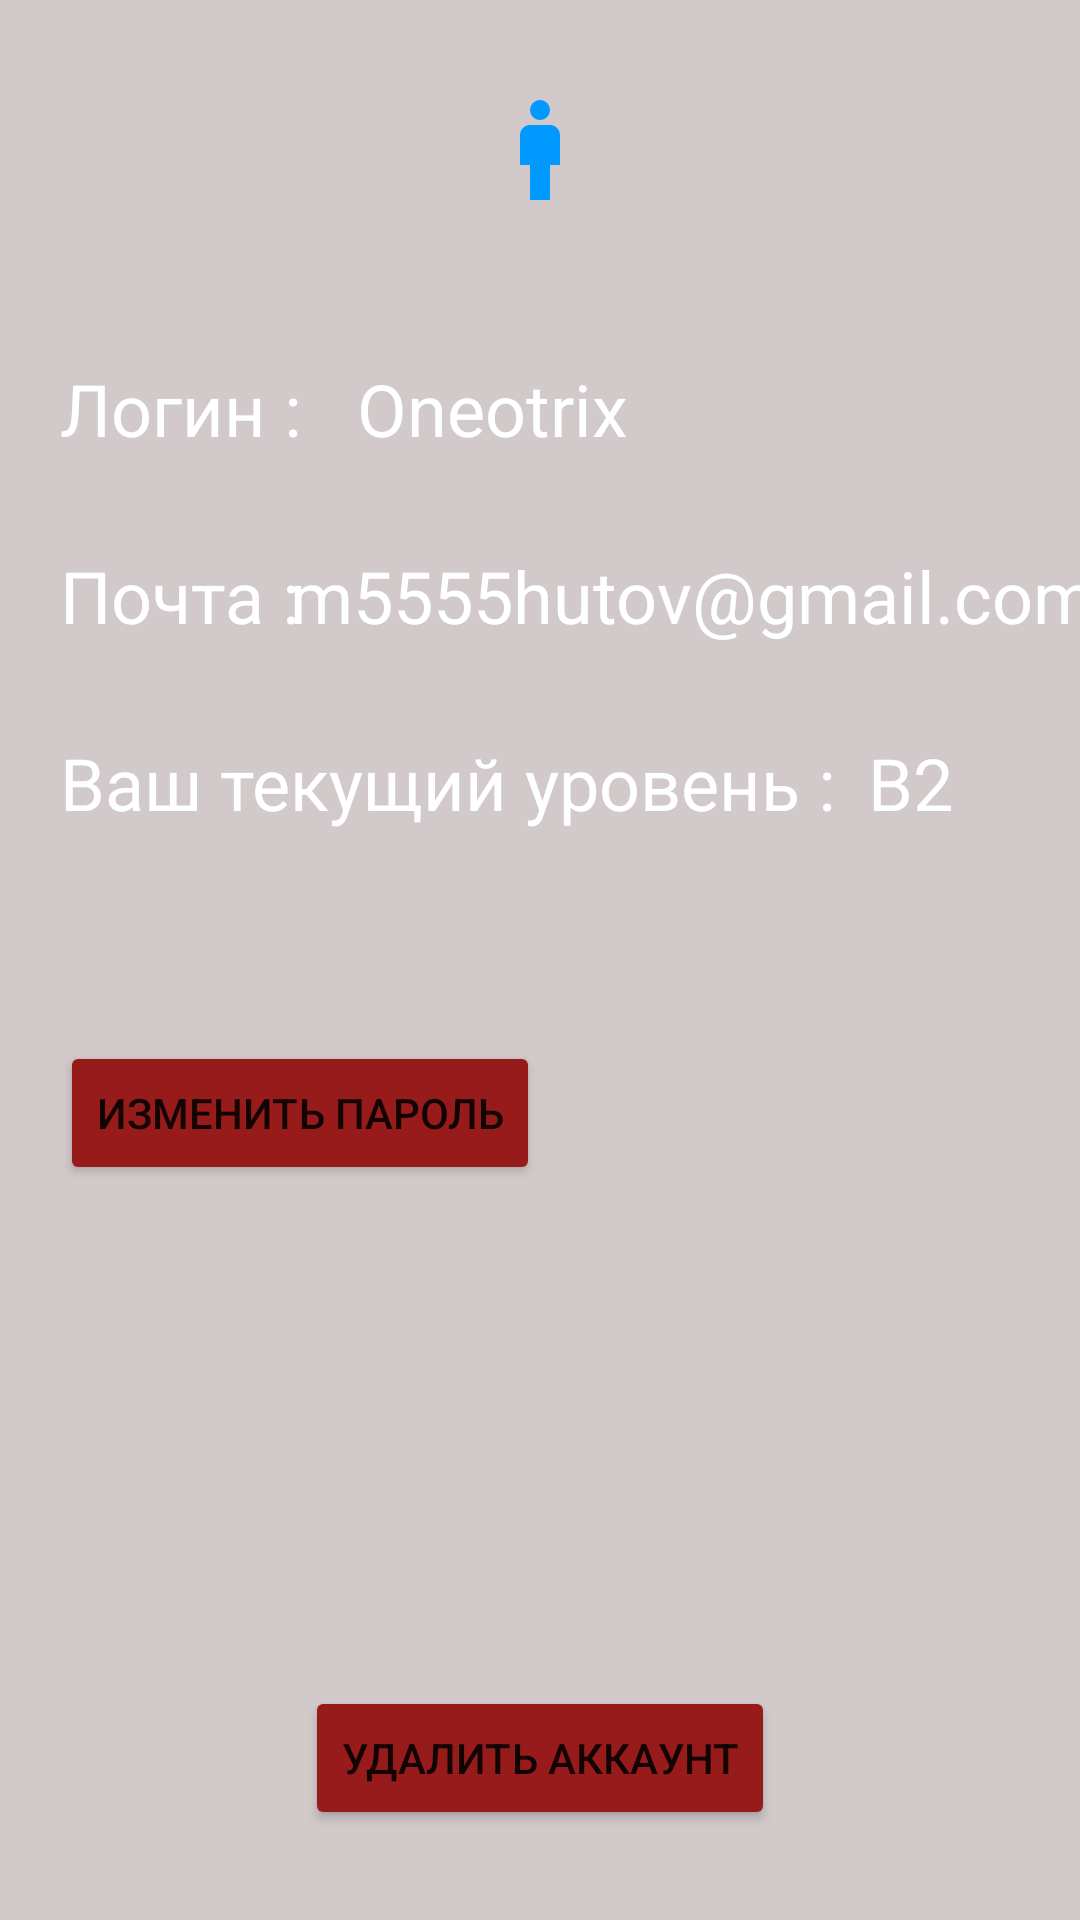

Where icons sit on this 1080*1920 app screen, as (x1, y1, x2, y2):
man: (520, 100, 560, 200)
